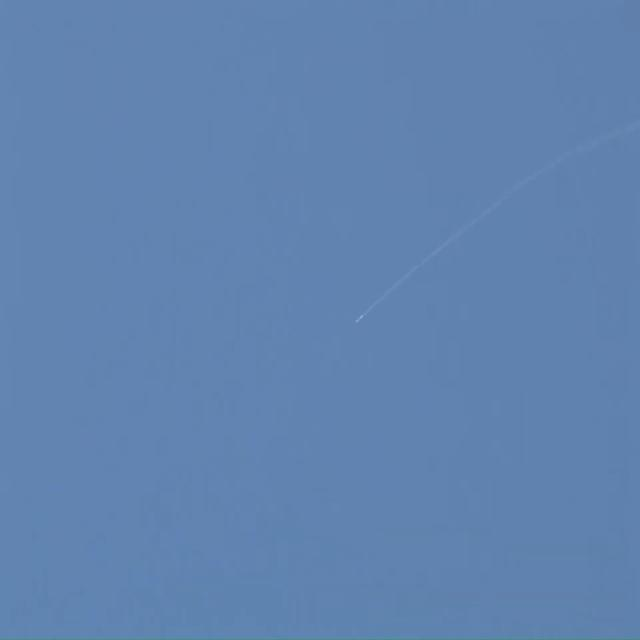Rocket: (356, 315, 363, 322)
